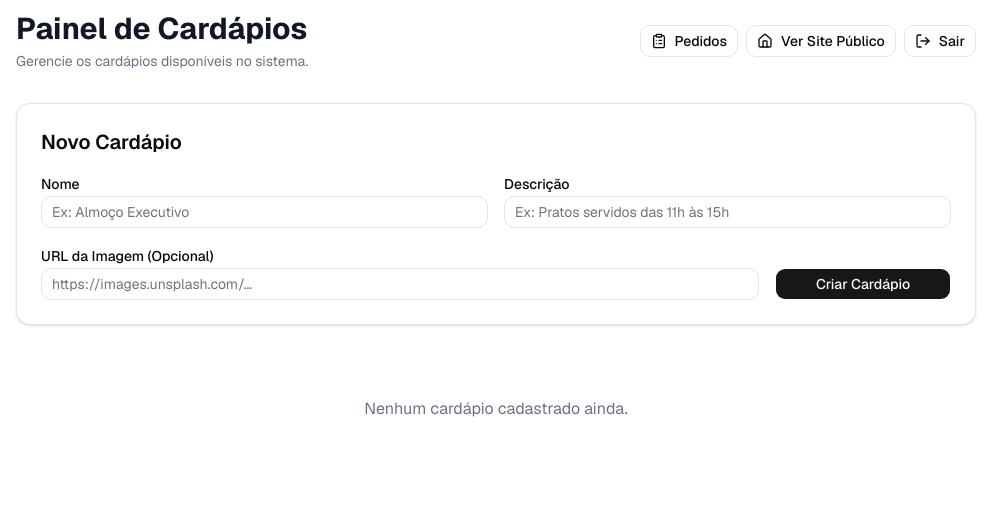
Test: complete application pages › creates a menu from the authenticated administration page
Type "Jantar" into the field labelled "Nome". click: [264, 212]
box: x1=41 y1=196 x2=488 y2=228
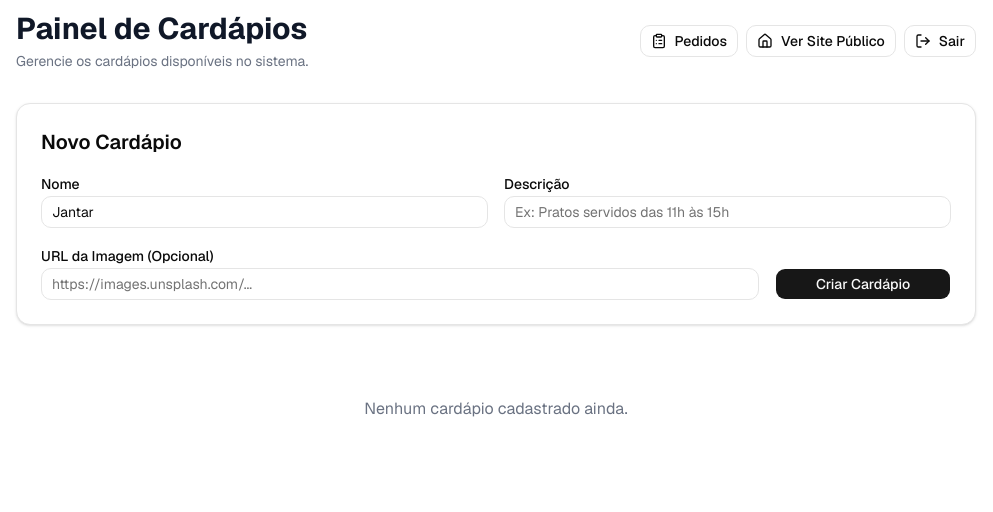
Type "Noite" into the field labelled "Descrição". click: [728, 212]
box: x1=504 y1=196 x2=951 y2=228
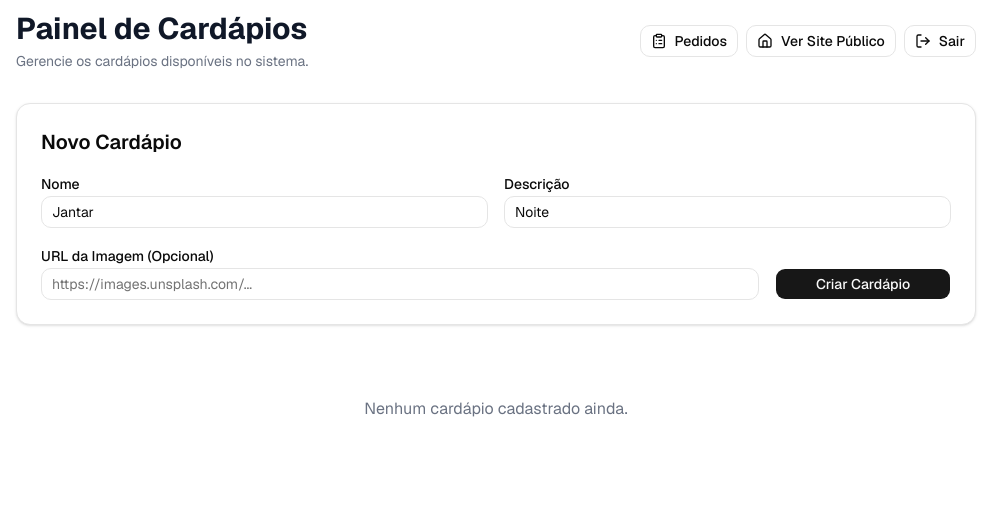
Click the button "Criar Cardápio". click: [863, 284]
box: x1=775 y1=268 x2=951 y2=300
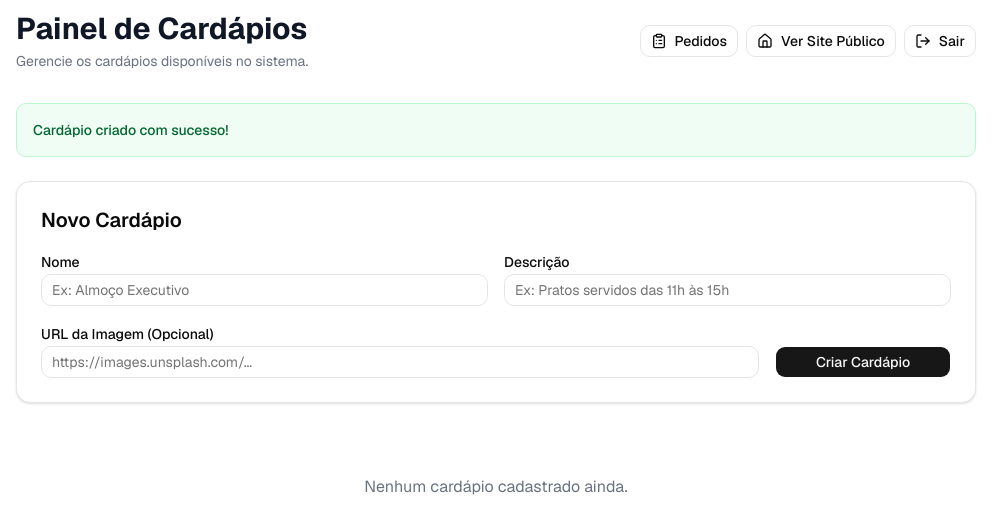
Expected: the text "Cardápio criado com sucesso!" is shown, x1=16 y1=103 x2=976 y2=157
